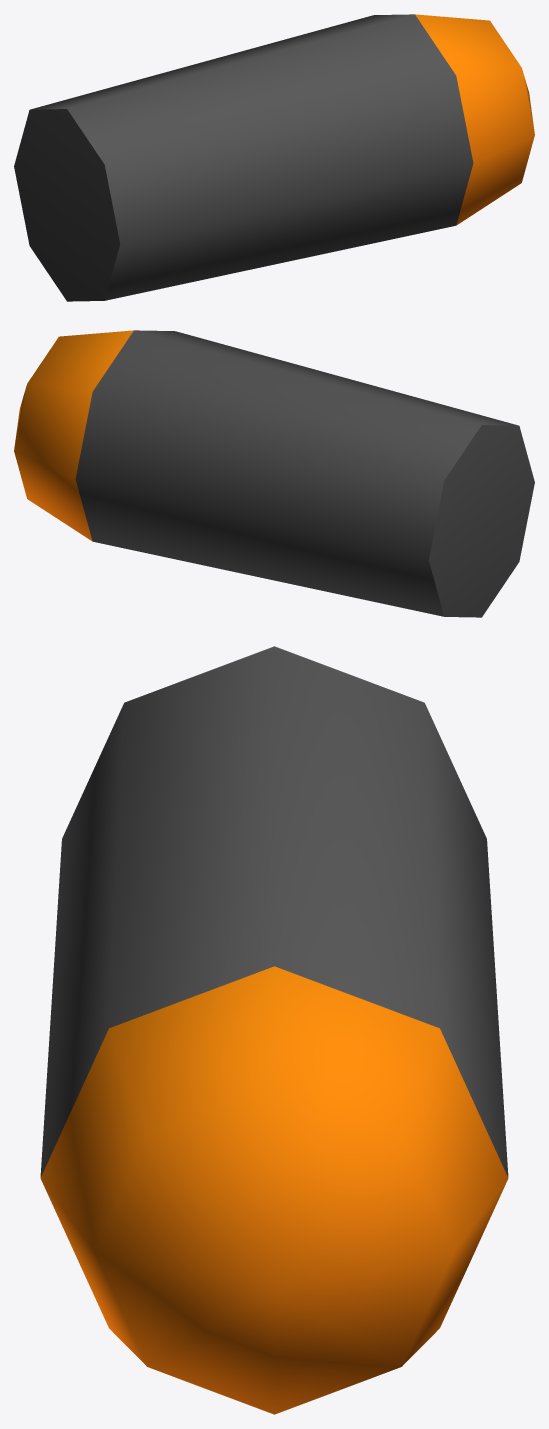
Rendered from GrenadeBullet.fbx.
The picture shows the model from 3 angles, top to bottom: view 1: azimuth 30°, elevation 25°; view 2: azimuth 150°, elevation 25°; view 3: azimuth 270°, elevation 25°; orthographic projection. The views are drawn at different scales.
Parts seen in each view (by area): view 1: Bullet5; view 2: Bullet5; view 3: Bullet5.
Boxes of the visible parts, x1=… form: Bullet5: x1=14, y1=14, x2=534, y2=301; Bullet5: x1=14, y1=330, x2=534, y2=617; Bullet5: x1=40, y1=646, x2=508, y2=1414.
Bounding box in the file's own units: 1.79 × 0.7872 × 0.7872.
